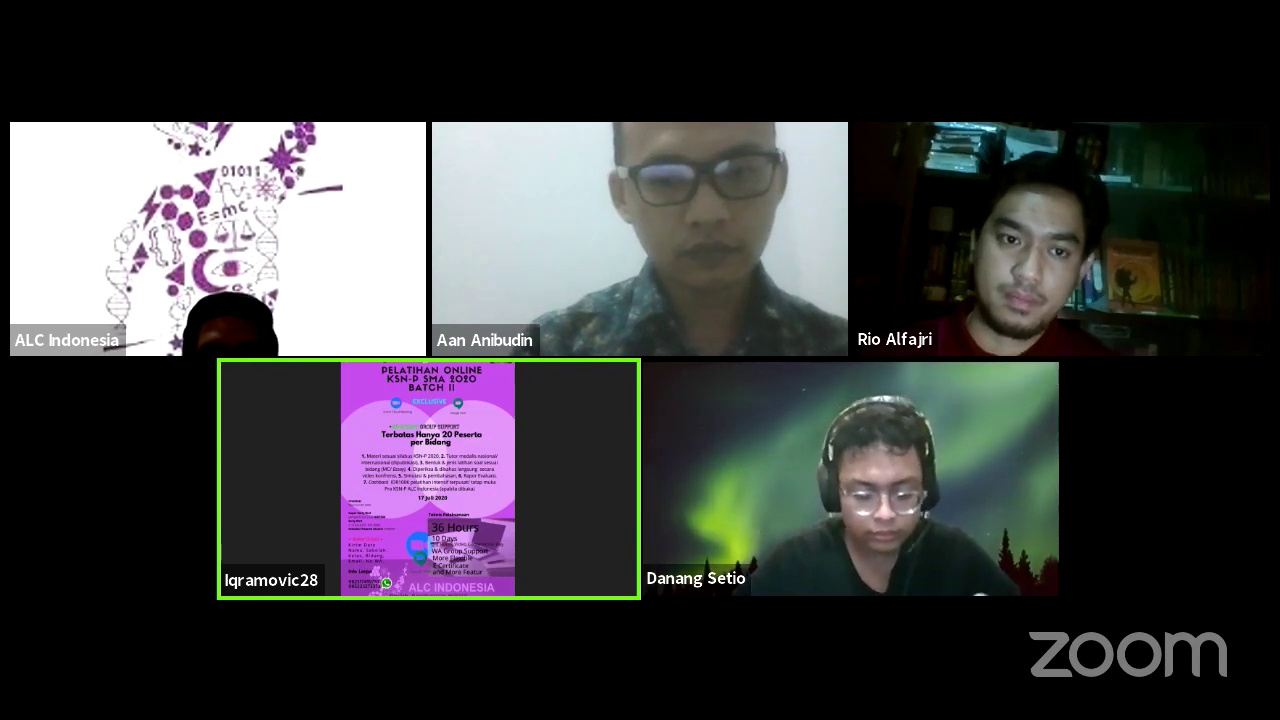Distracted: (816, 415, 938, 560)
Not Distracted: (599, 133, 789, 292), (965, 182, 1093, 341)
